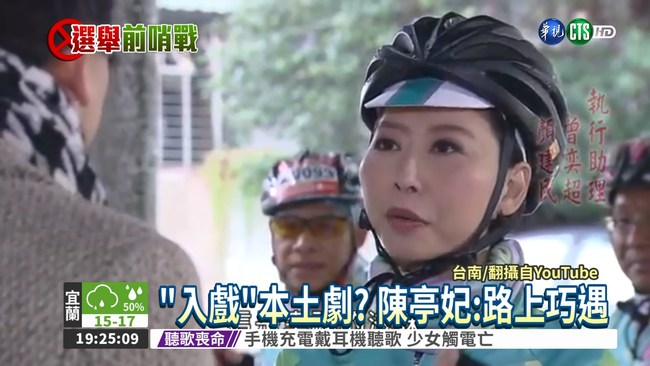helmet: (342, 25, 594, 166)
